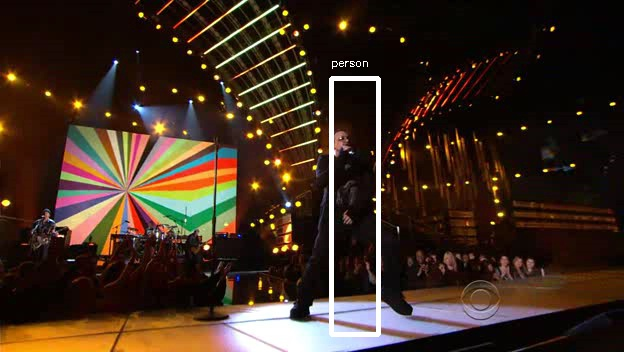person: (315, 128, 380, 246), (312, 128, 377, 246), (318, 128, 383, 246), (315, 125, 380, 243), (315, 131, 380, 249)
target_negative: (70, 65, 385, 200), (50, 278, 334, 339), (309, 238, 538, 312), (215, 55, 575, 66), (278, 250, 315, 305)
